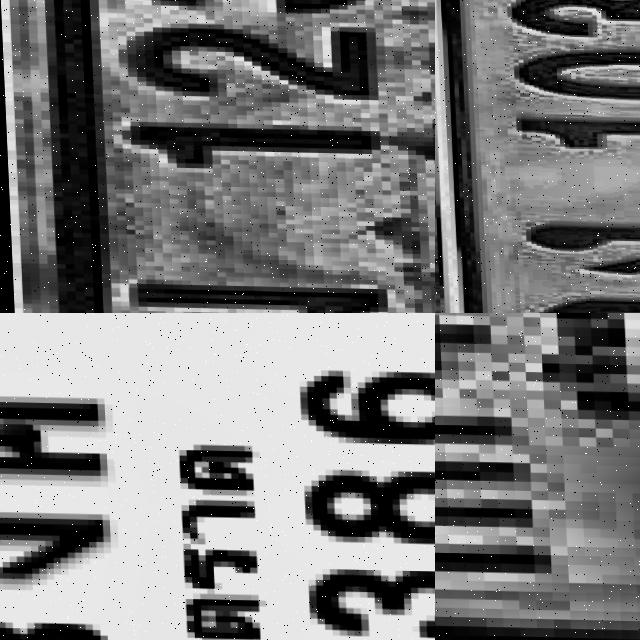license-plate: (0, 313, 435, 640), (30, 0, 435, 313), (435, 313, 640, 640), (435, 0, 640, 313)
